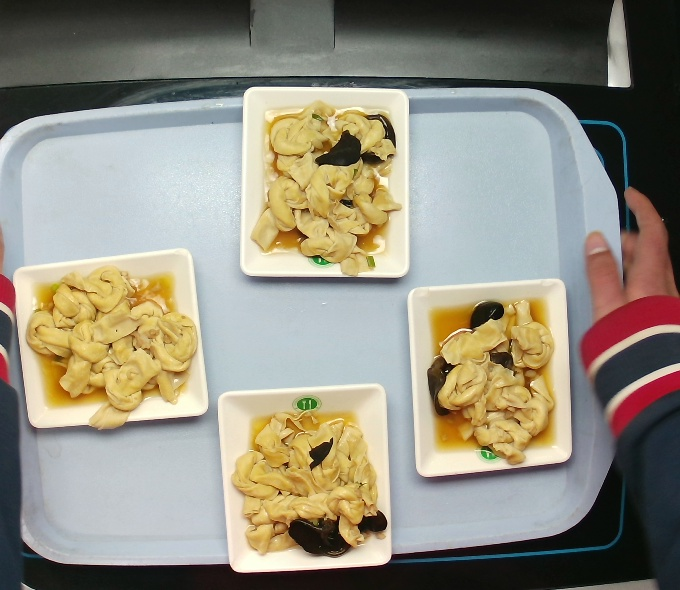wcq-QianZhangJie: (18, 261, 200, 430), (251, 101, 402, 272), (237, 390, 377, 568), (416, 299, 563, 466)
